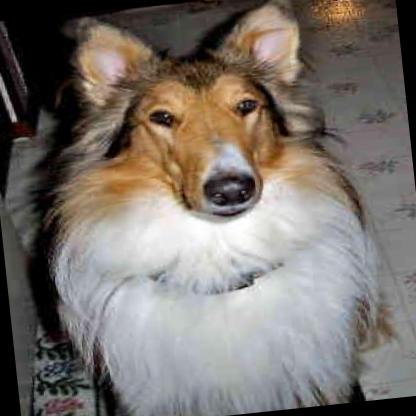collie: (27, 0, 381, 416)
